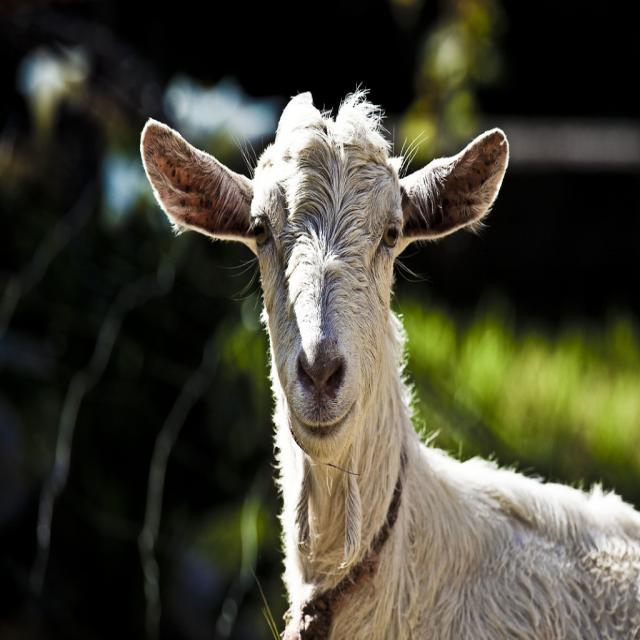Goat: (140, 89, 640, 636)
